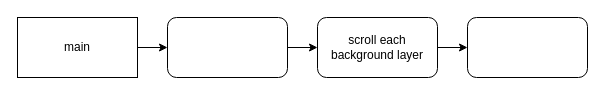
Image size: 605x95. Some labels were removed from this diagram. Each missing label, with the box of its shape:
draw each background layer: (466, 16, 588, 78)
load background textures from files: (166, 16, 288, 78)
